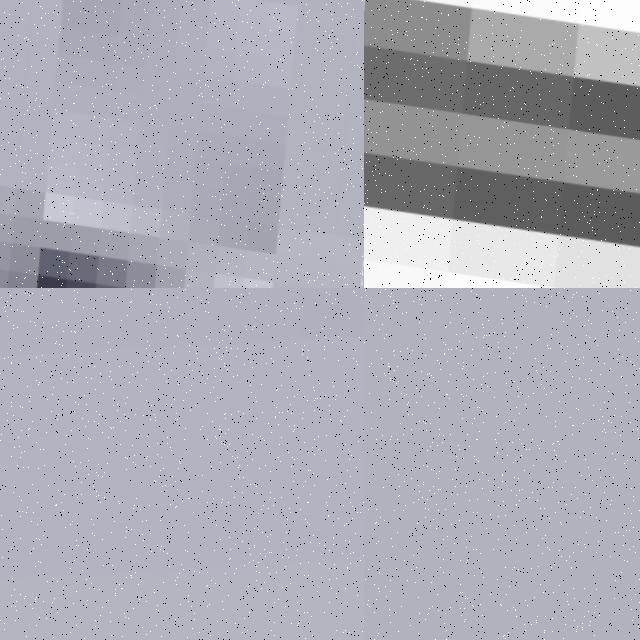drone: (0, 0, 364, 288), (364, 0, 640, 288)
